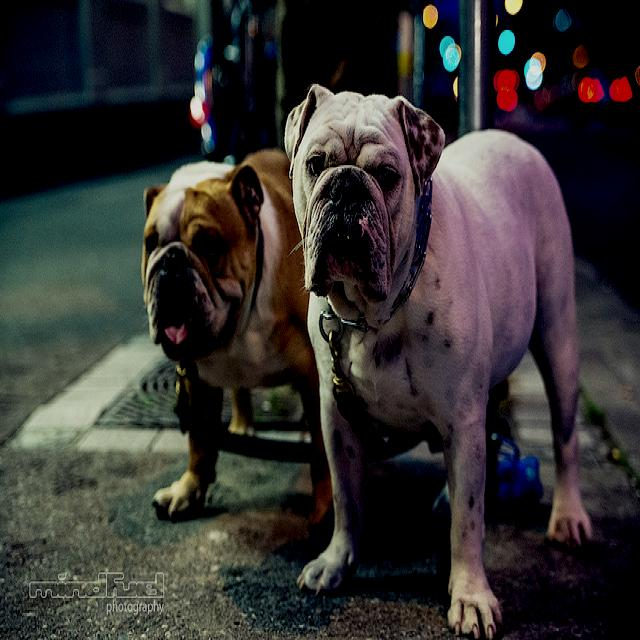Dog: (298, 25, 606, 622), (104, 79, 298, 541)
